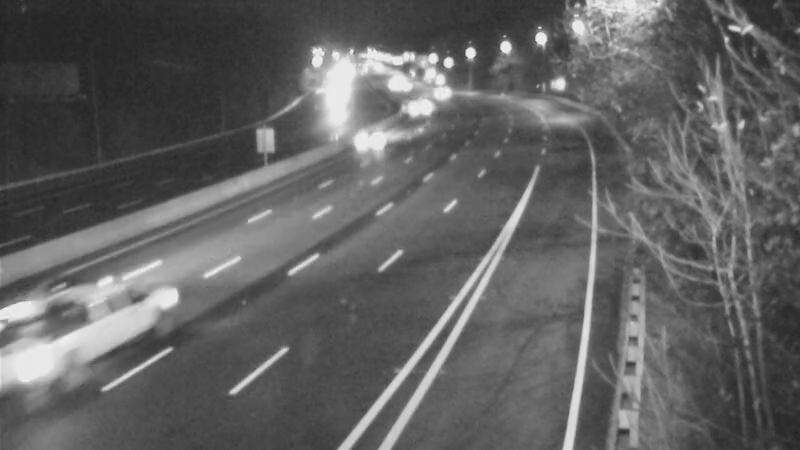vehicle: (45, 280, 155, 390), (390, 63, 440, 113), (416, 66, 466, 116), (393, 83, 443, 133), (351, 109, 401, 159)
